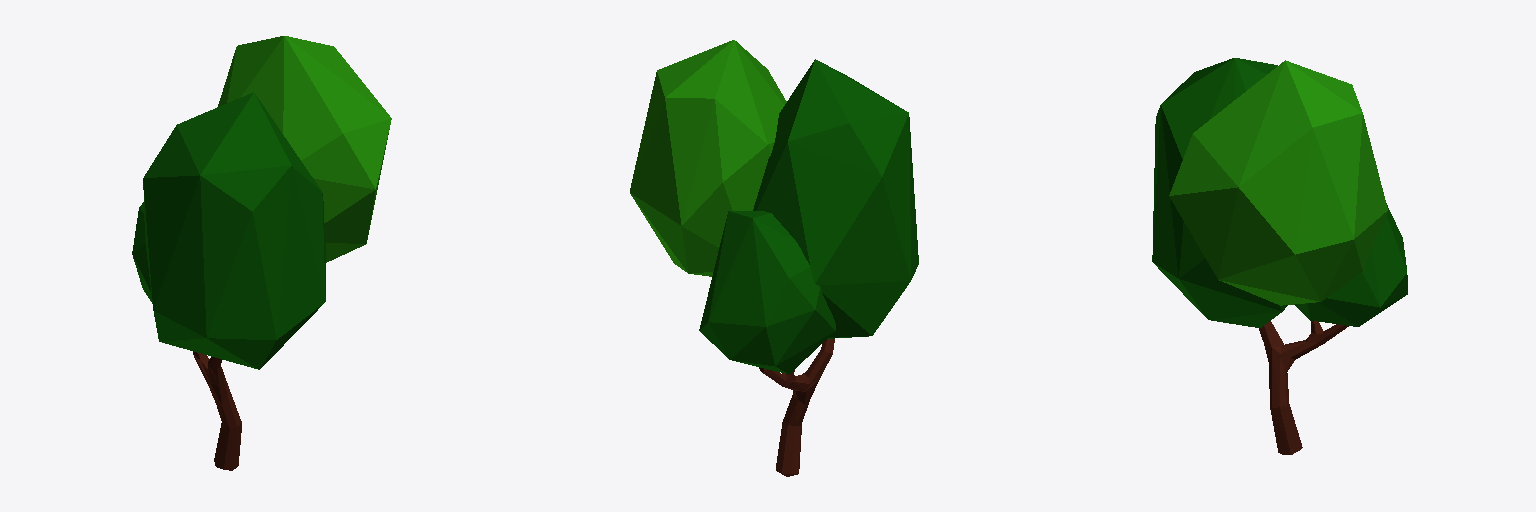
Rendered from Arbol1.obj.
3 views of the same model, side by side, from view 1: azimuth 30°, elevation 25°; view 2: azimuth 150°, elevation 25°; view 3: azimuth 270°, elevation 25° (orthographic).
Parts seen in each view (by area): view 1: Cube.030; view 2: Cube.030; view 3: Cube.030.
Boxes of the visible parts, x1,y1,x2,y2 form: Cube.030: [132, 36, 391, 470]; Cube.030: [630, 40, 918, 476]; Cube.030: [1152, 58, 1407, 454].
Size of the model in its own units: 2.72 by 4.46 by 2.45.